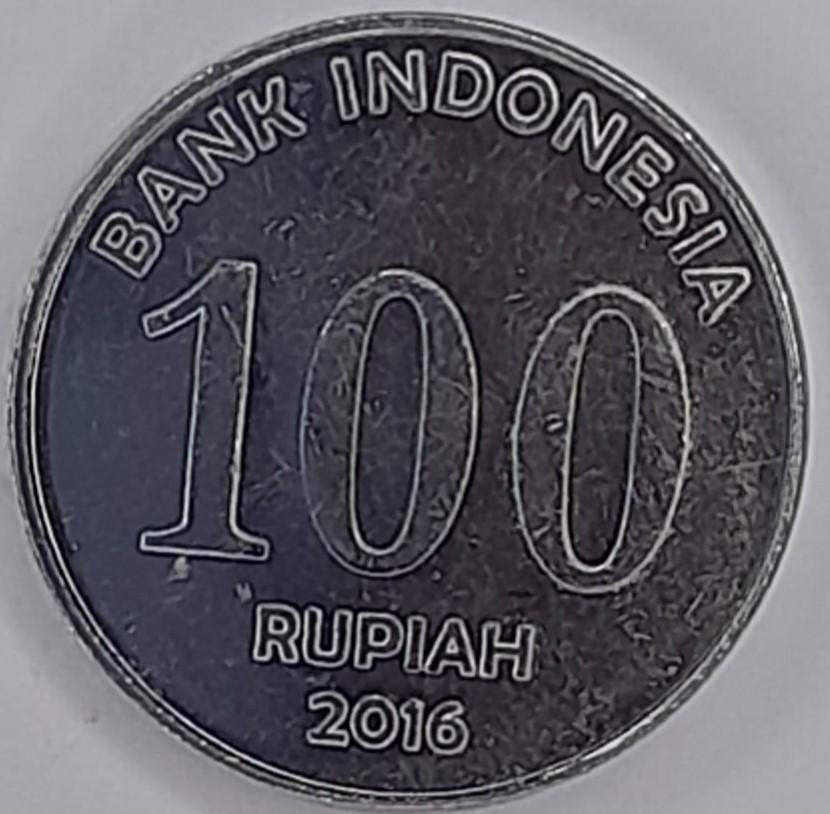coin_100_e2016: (2, 4, 815, 812)
